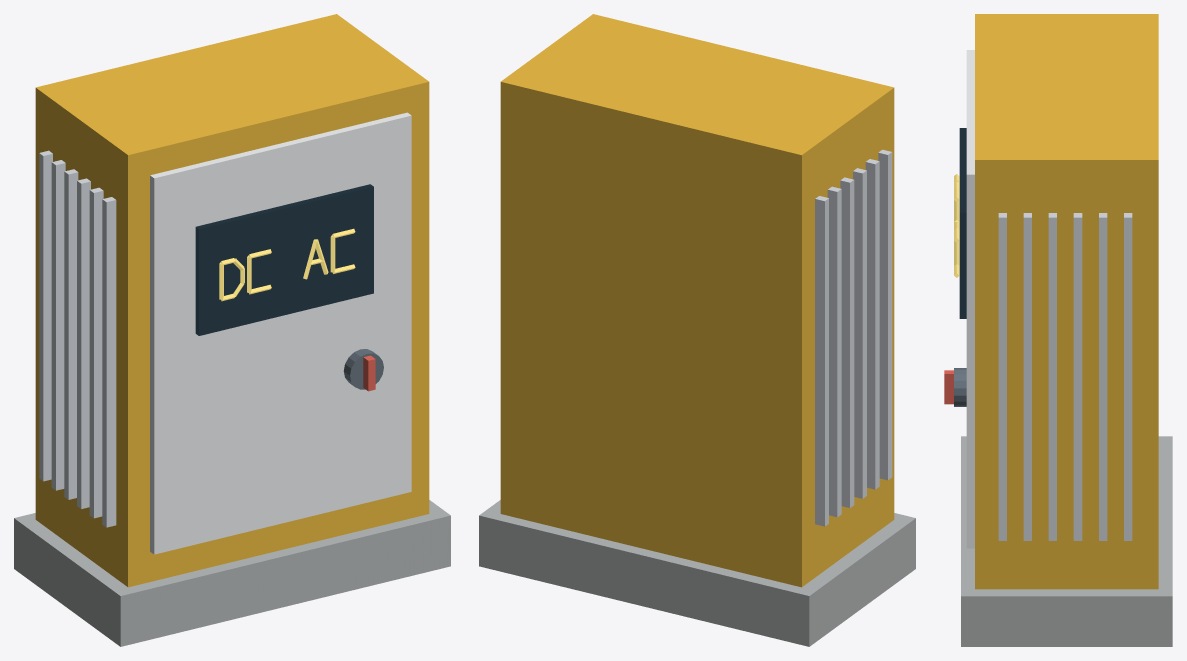
File: ENERGY-007.glb
3 renders of one model, left to right at view 1: azimuth 30°, elevation 25°; view 2: azimuth 150°, elevation 25°; view 3: azimuth 270°, elevation 25°, orthographic.
Visible parts, largest first — view 1: ENERGY-007; view 2: ENERGY-007; view 3: ENERGY-007.
Part boxes in pixels (x1,y1,x2,y2): ENERGY-007: (14, 14, 450, 646); ENERGY-007: (479, 14, 915, 646); ENERGY-007: (944, 14, 1172, 646).
Bounding box in the file's own units: 1.36 × 1.9 × 0.82.
